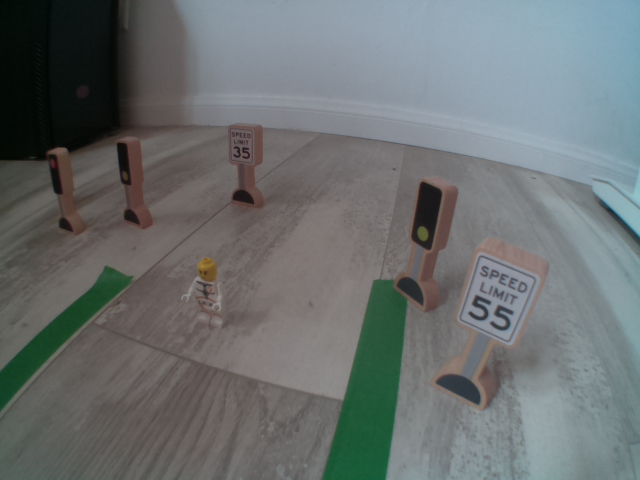Green Traffic Light: (403, 172, 448, 257), (111, 137, 139, 187)
Red Traffic Light: (43, 149, 68, 197)
Speed Limit 35: (224, 125, 263, 172)
Speed Limit 55: (464, 253, 535, 346)
person: (182, 255, 236, 332)
